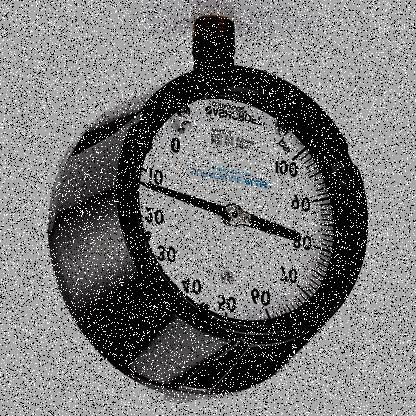needle: (138, 180, 226, 218)
